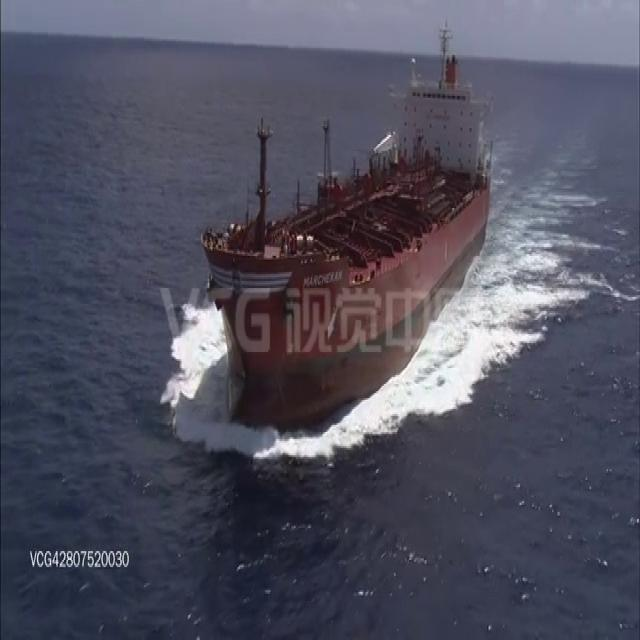cargoship: (193, 22, 492, 432)
